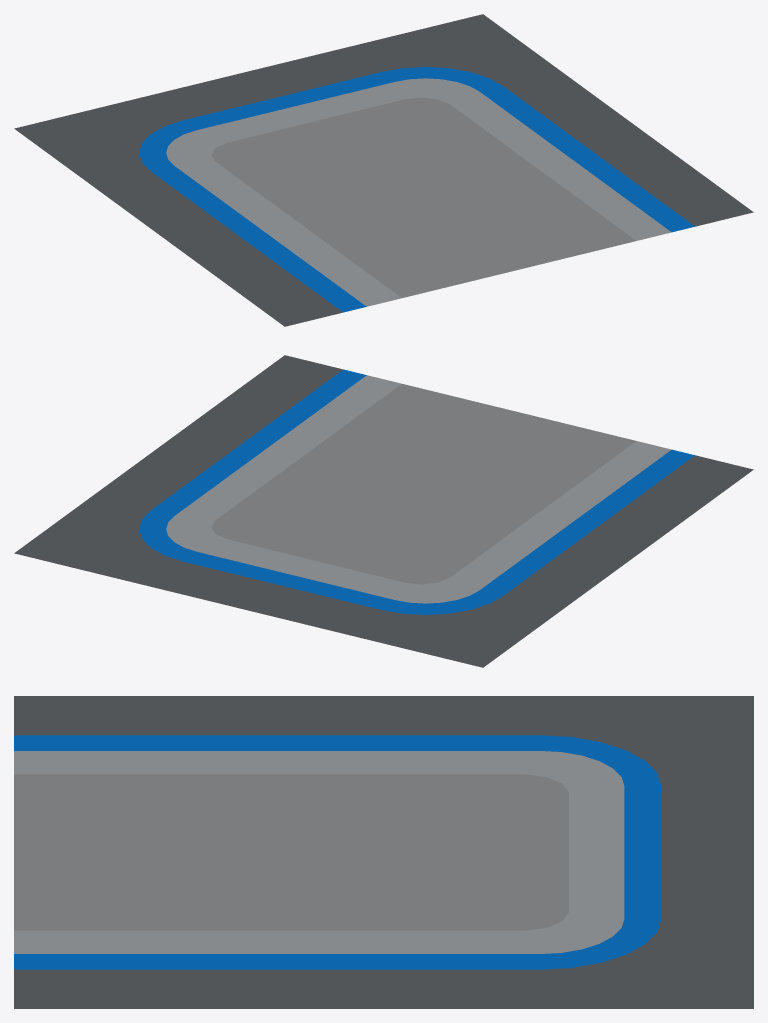
The model's file is Ceiling_type_B_020.fbx.
3 renders of one model, top to bottom at view 1: azimuth 30°, elevation 25°; view 2: azimuth 150°, elevation 25°; view 3: azimuth 270°, elevation 25°, orthographic. The views are drawn at different scales.
Visible parts, largest first — view 1: Ceiling_type_B_020; view 2: Ceiling_type_B_020; view 3: Ceiling_type_B_020.
Part boxes in pixels (x1,y1,x2,y2): Ceiling_type_B_020: (14, 14, 753, 326); Ceiling_type_B_020: (14, 355, 753, 667); Ceiling_type_B_020: (14, 696, 753, 1008).
Bounding box in the file's own units: 400 × 400 × 5.7.
